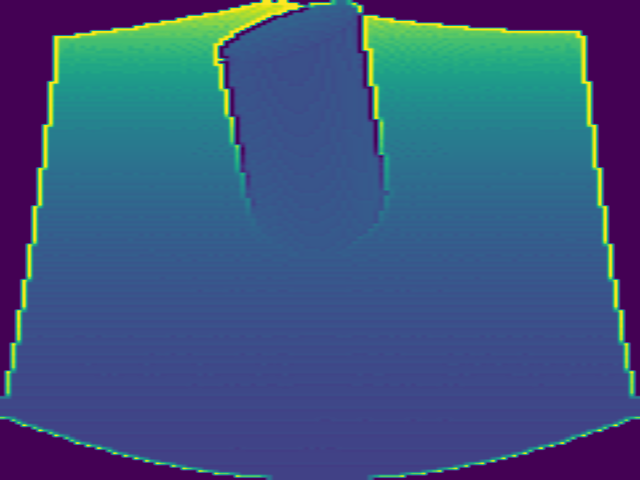cylinder: (213, 1, 388, 248)
